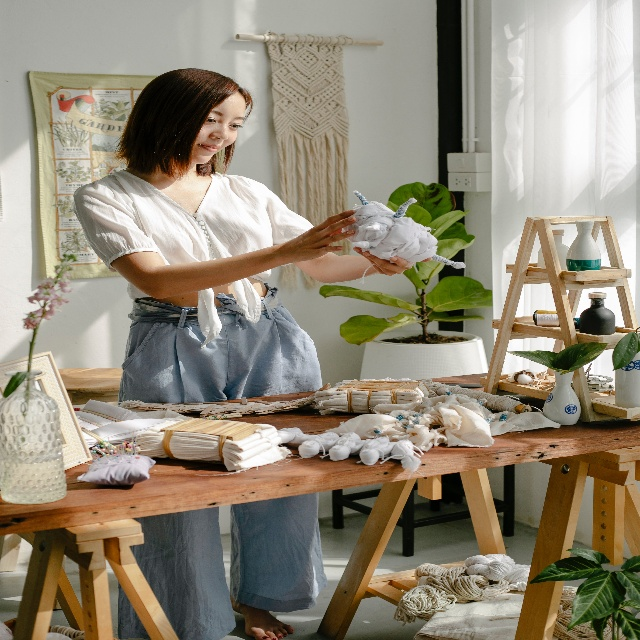Sin_guantes: (293, 208, 358, 263), (353, 242, 431, 277)
